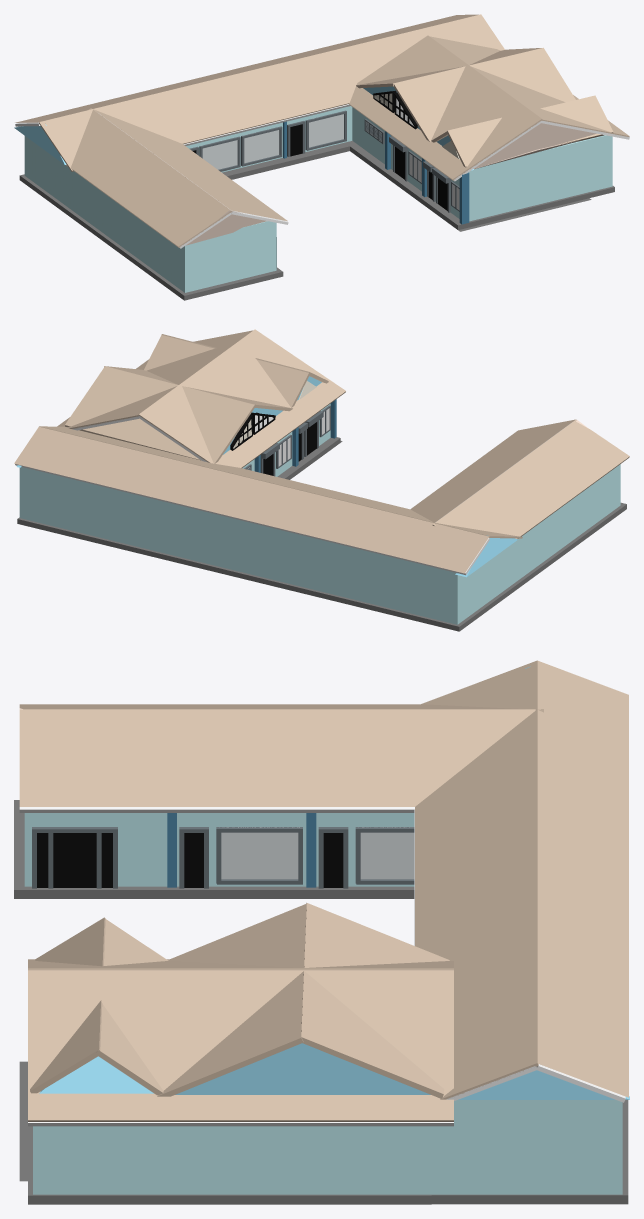
File: Stores.glb
3 views of the same model, one above another, from view 1: azimuth 30°, elevation 25°; view 2: azimuth 150°, elevation 25°; view 3: azimuth 270°, elevation 25° (orthographic). The views are drawn at different scales.
Visible parts, largest first — view 1: cube; view 2: cube; view 3: cube.
Boxes of the visible parts, x1,y1,x2,y2 form: cube: [14, 14, 629, 300]; cube: [14, 329, 629, 631]; cube: [14, 660, 629, 1204].
Size of the model in its own units: 7.5 by 1.43 by 4.7.
Materials: 13 (13 with a texture image).
